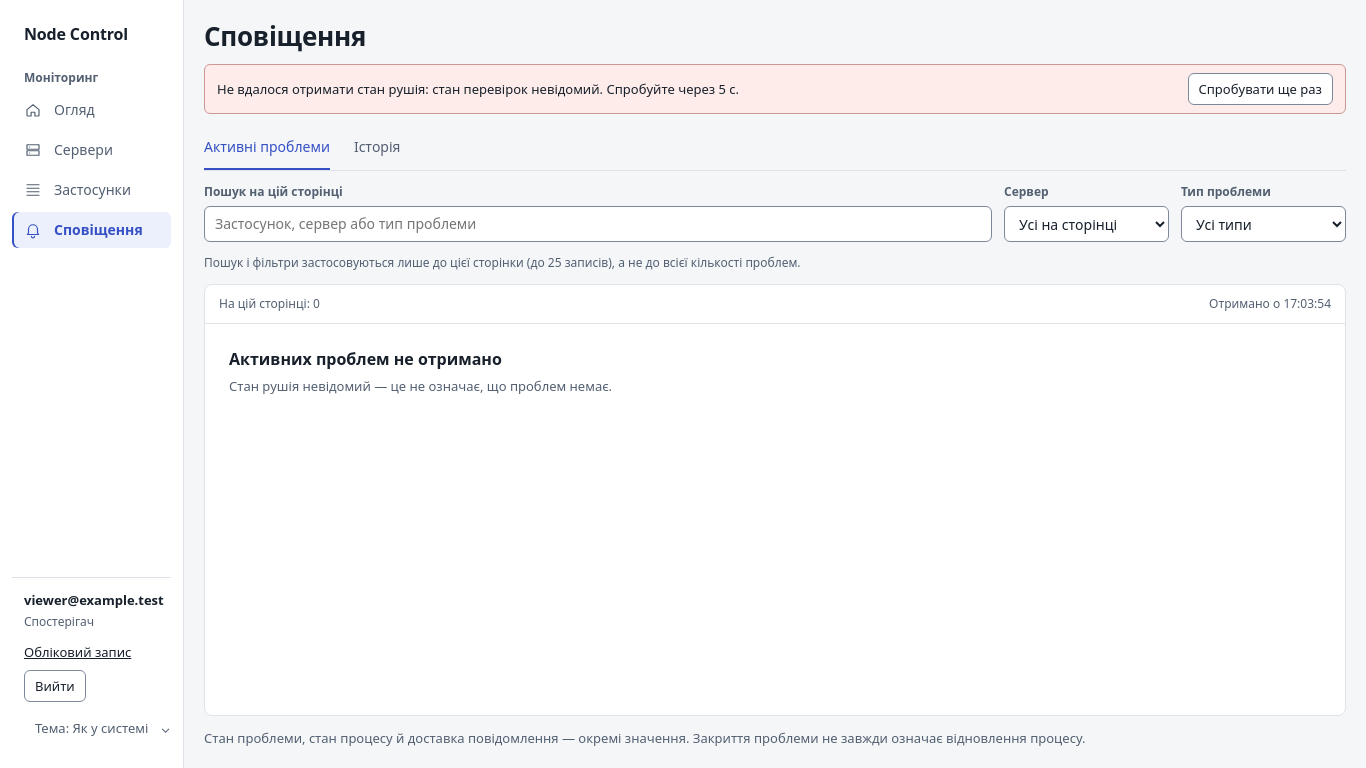
alerts: engine state and NTF-04 (no active problems) › status failure and list success are separate: the list is shown, the empty state says the state is unknown; retry
Expected: the text "Не вдалося отримати стан рушія: стан перевірок невідомий" is shown, x1=217 y1=80 x2=739 y2=98
Expected: the text "Стан рушія невідомий — це не означає, що проблем немає." is shown, x1=229 y1=376 x2=612 y2=396
Click the button "Спробувати ще раз". click: point(1260, 89)
box: x1=1188 y1=73 x2=1333 y2=105
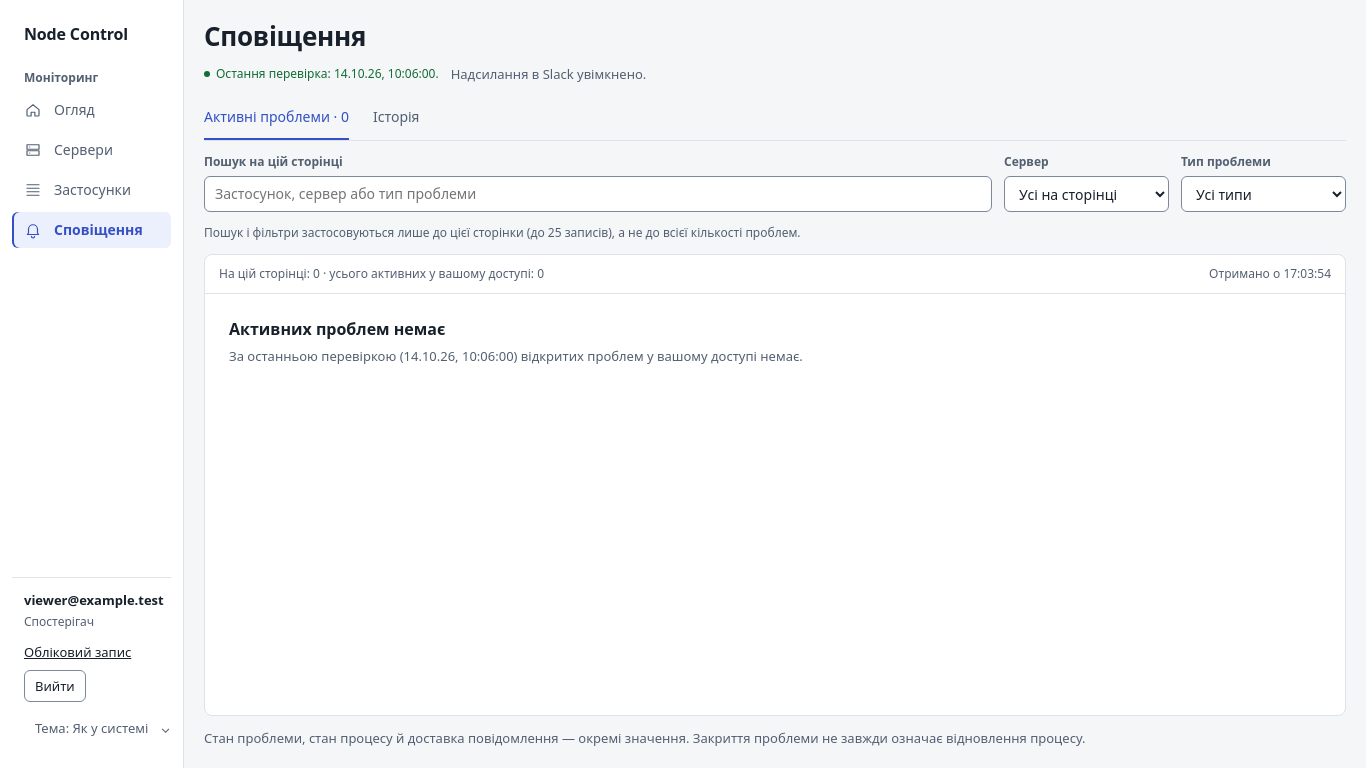
Expected: the heading "Активних проблем немає" is shown, x1=229 y1=318 x2=445 y2=340
